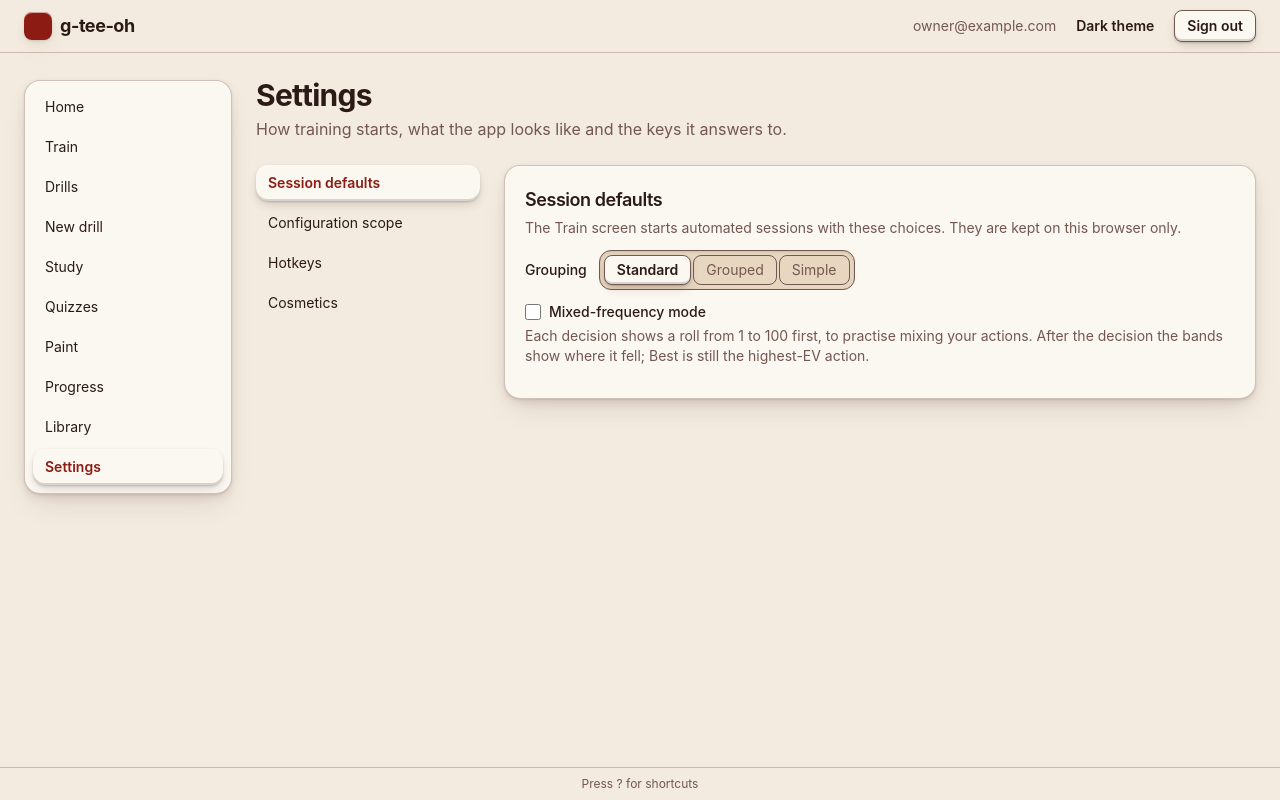
Test: R4.12 /settings session defaults › R4.12 grouping and Mixed-frequency mode save to the store at once and say so; the mode is off by default (O-344)
Later steps or results of the test are not shown.
Click the radio button labelled "Simple". click: (814, 270)
box: [779,255,850,285]
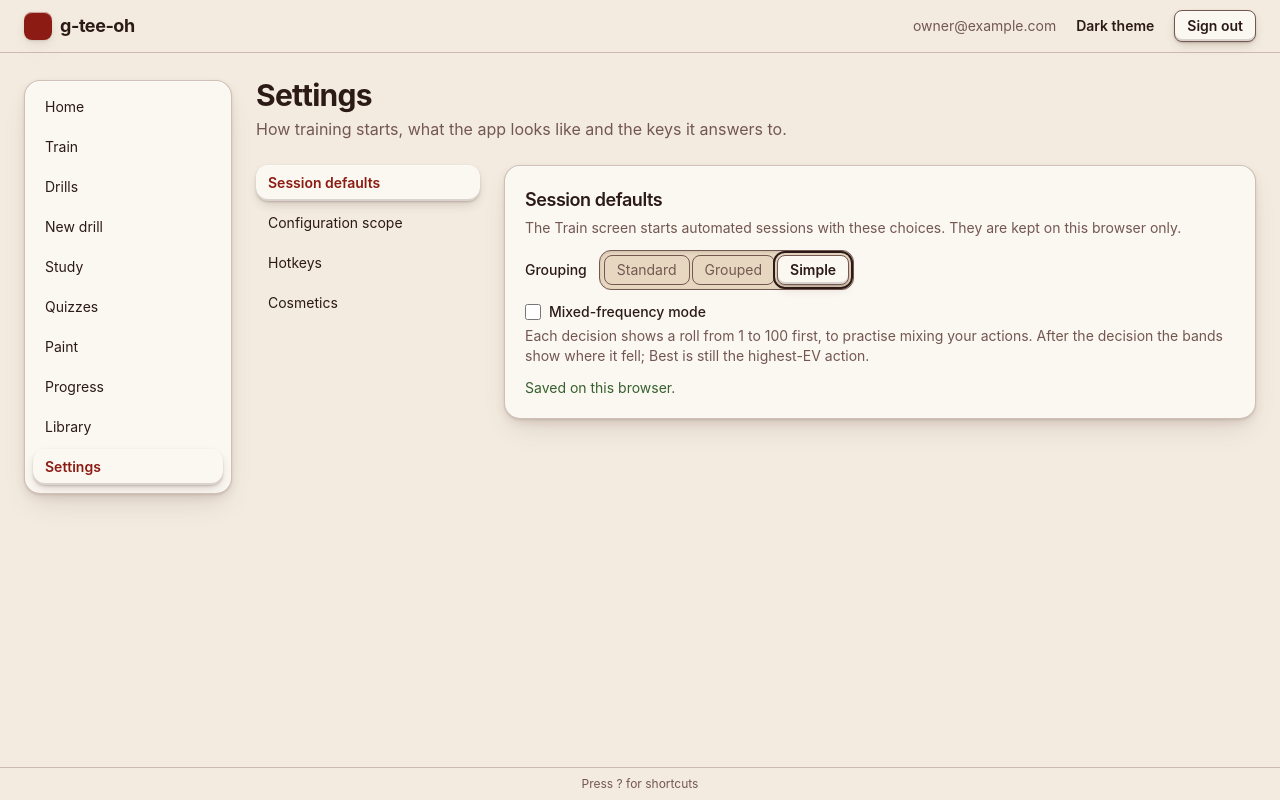
Expected: the checkbox labelled "Mixed-frequency mode" is not checked, [525,304,541,320]
Now the message reads "Saved on this browser.", box [525,379,675,396]
